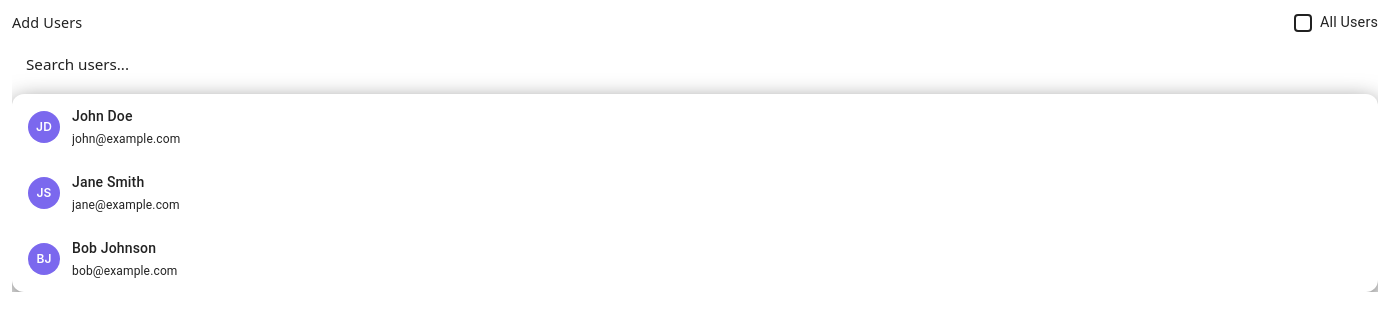
Test: UserSelectionPanel › Search Functionality › should show "No users found" when search has no results
This screenshot has width=1390, height=309.
In the field with placeholder "Search users...": (695, 64) [12, 42, 1378, 86], type "nonexistent"
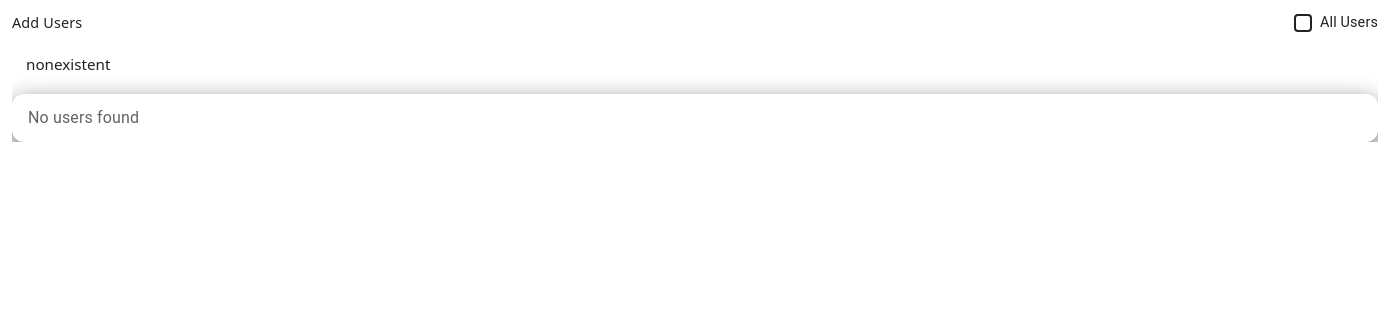
Expected: the text "No users found" is shown, [28, 108, 139, 127]
Expected: the button "John Doe" is gone
